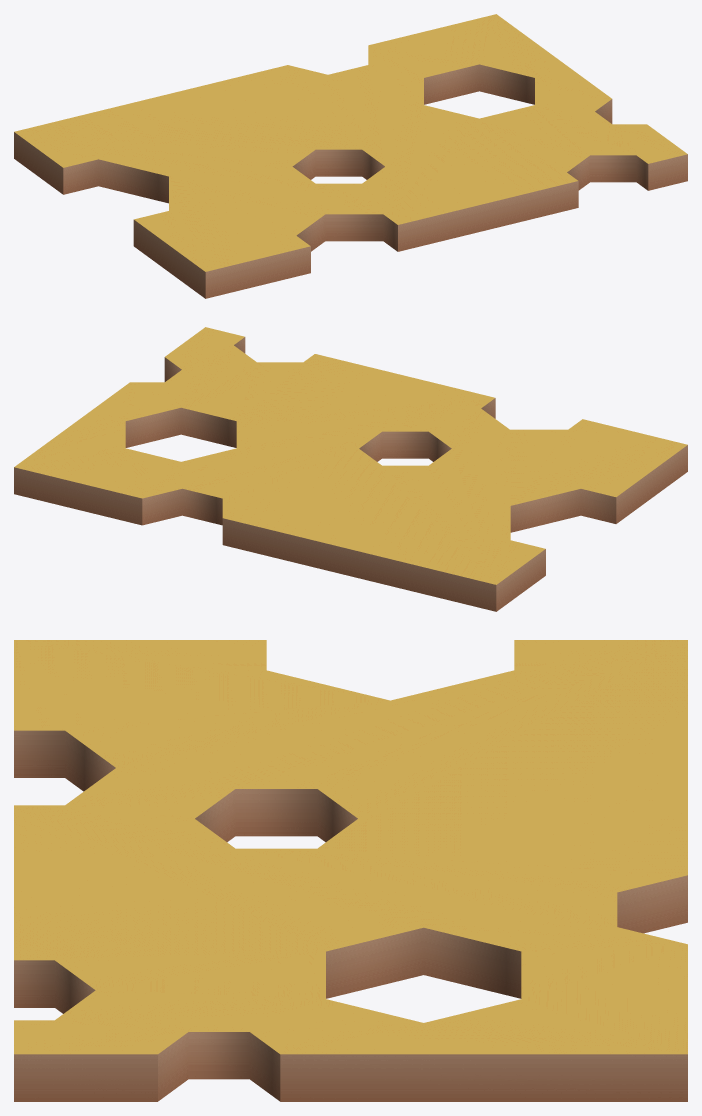
The model's file is Item_Cheese.glb.
3 renders of one model, top to bottom at view 1: azimuth 30°, elevation 25°; view 2: azimuth 150°, elevation 25°; view 3: azimuth 270°, elevation 25°, orthographic. The views are drawn at different scales.
Visible parts, largest first — view 1: Item_Cheese; view 2: Item_Cheese; view 3: Item_Cheese.
Part boxes in pixels (box(x1,y1,x2,y2)): Item_Cheese: box(14, 14, 687, 298); Item_Cheese: box(14, 327, 687, 611); Item_Cheese: box(14, 640, 687, 1101).
Bounding box in the file's own units: 0.384 × 0.0205 × 0.264.
Materials: 1 (1 with a texture image).
